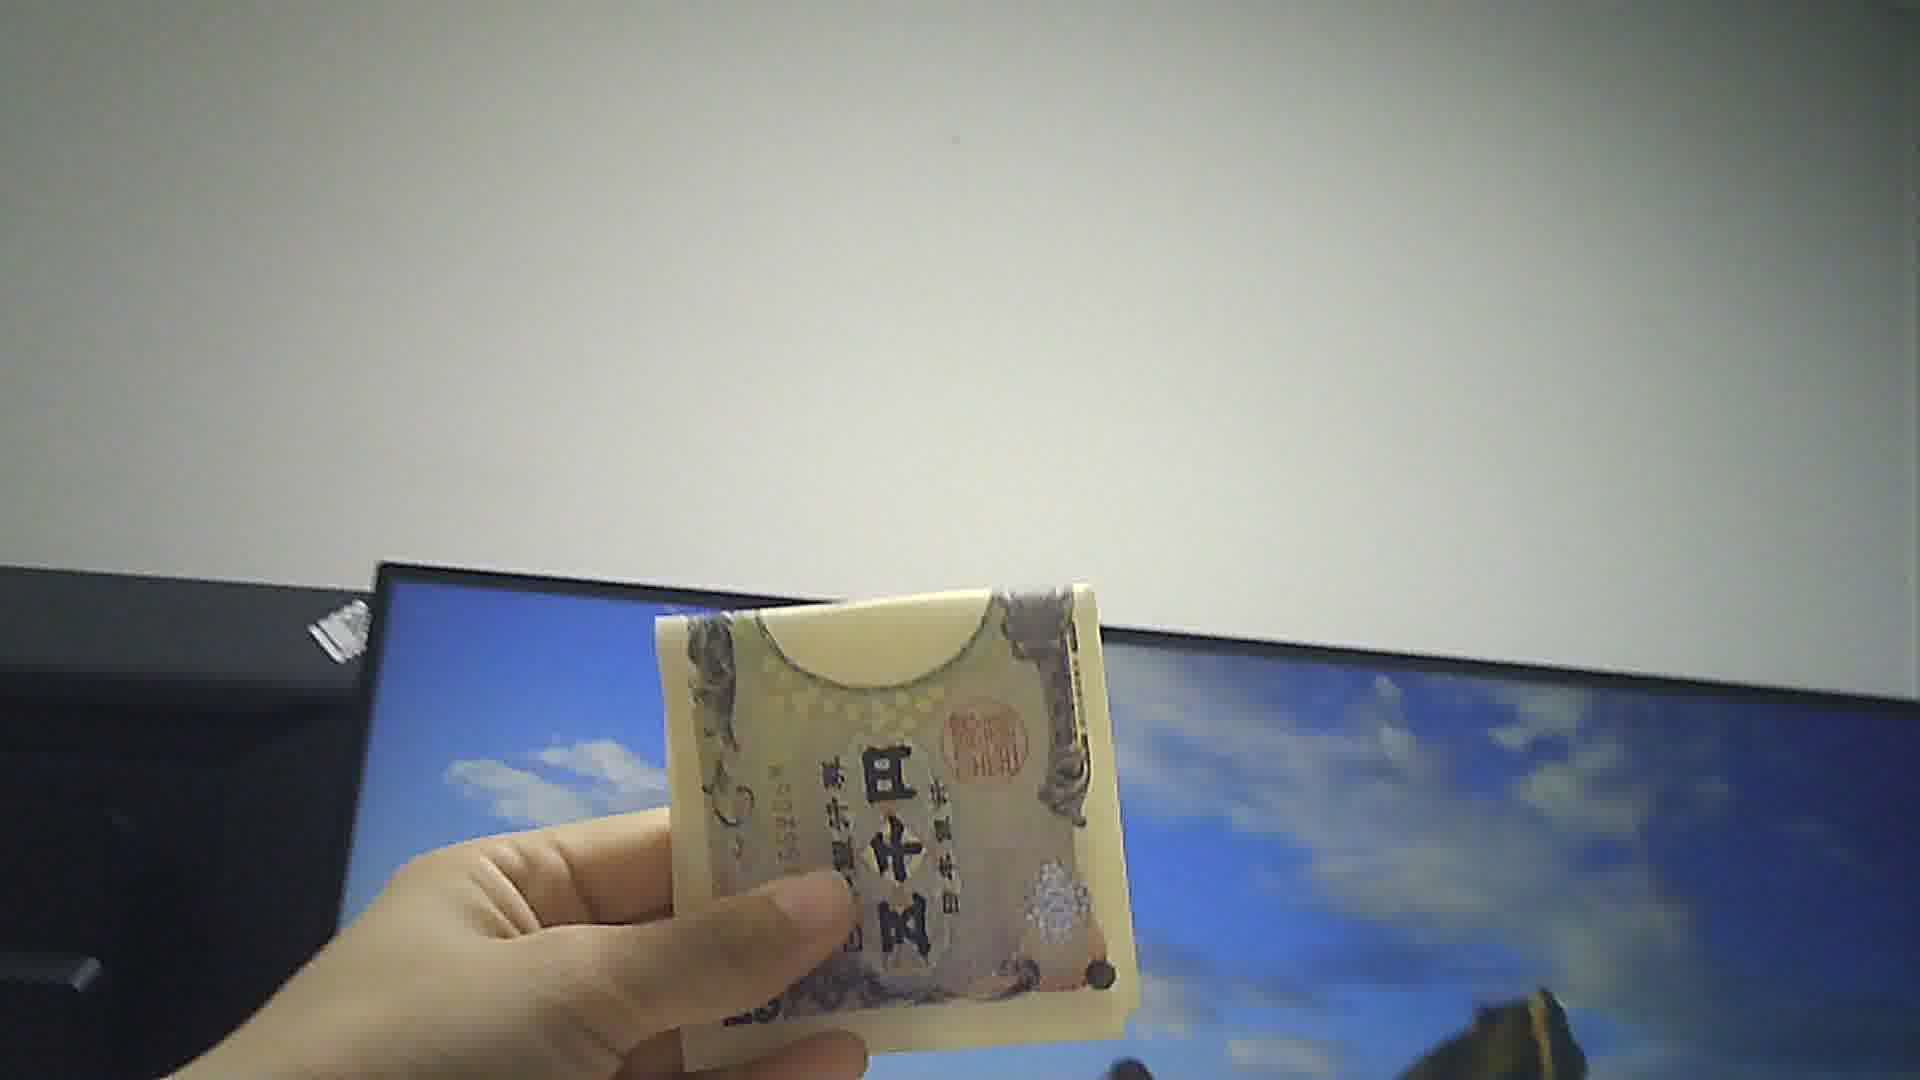5,000 Yen: (657, 568, 1143, 1055)
